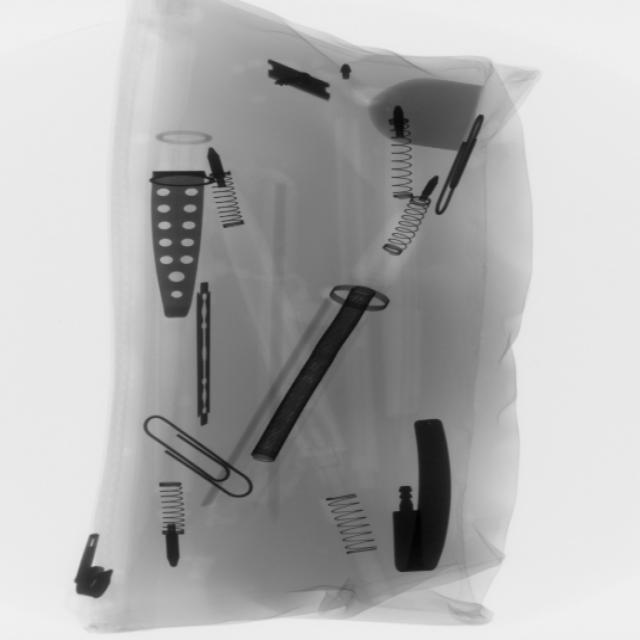SHURIKEN: (184, 273, 225, 429)
